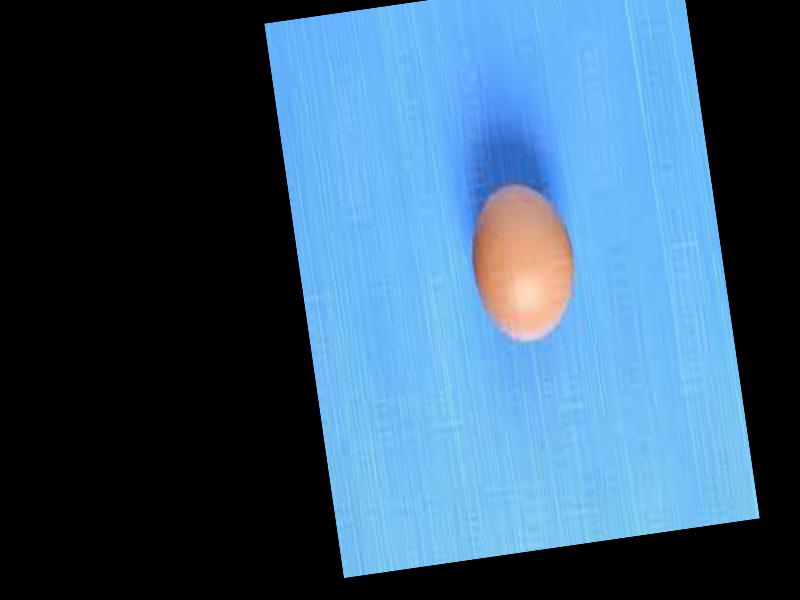Eggs: (462, 172, 584, 350)
